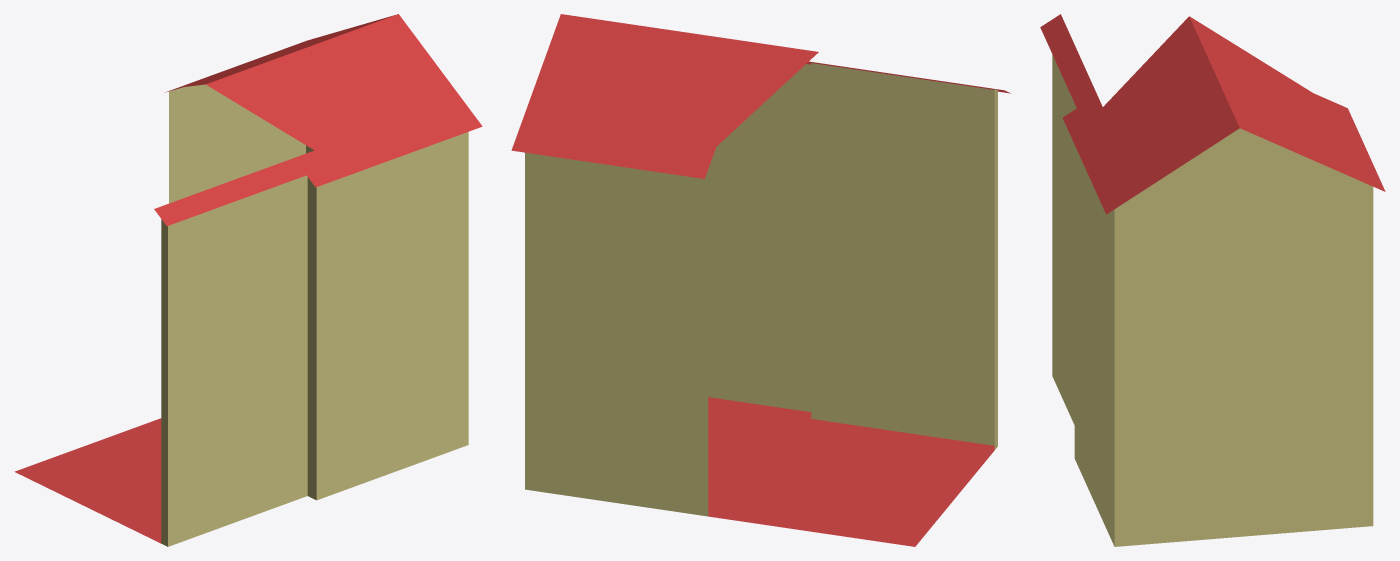
The picture shows the model from 3 angles, left to right: view 1: azimuth 30°, elevation 25°; view 2: azimuth 150°, elevation 25°; view 3: azimuth 270°, elevation 25°; orthographic projection. The views are drawn at different scales.
Size of the model in its own units: 11.03 by 8.24 by 10.87.
